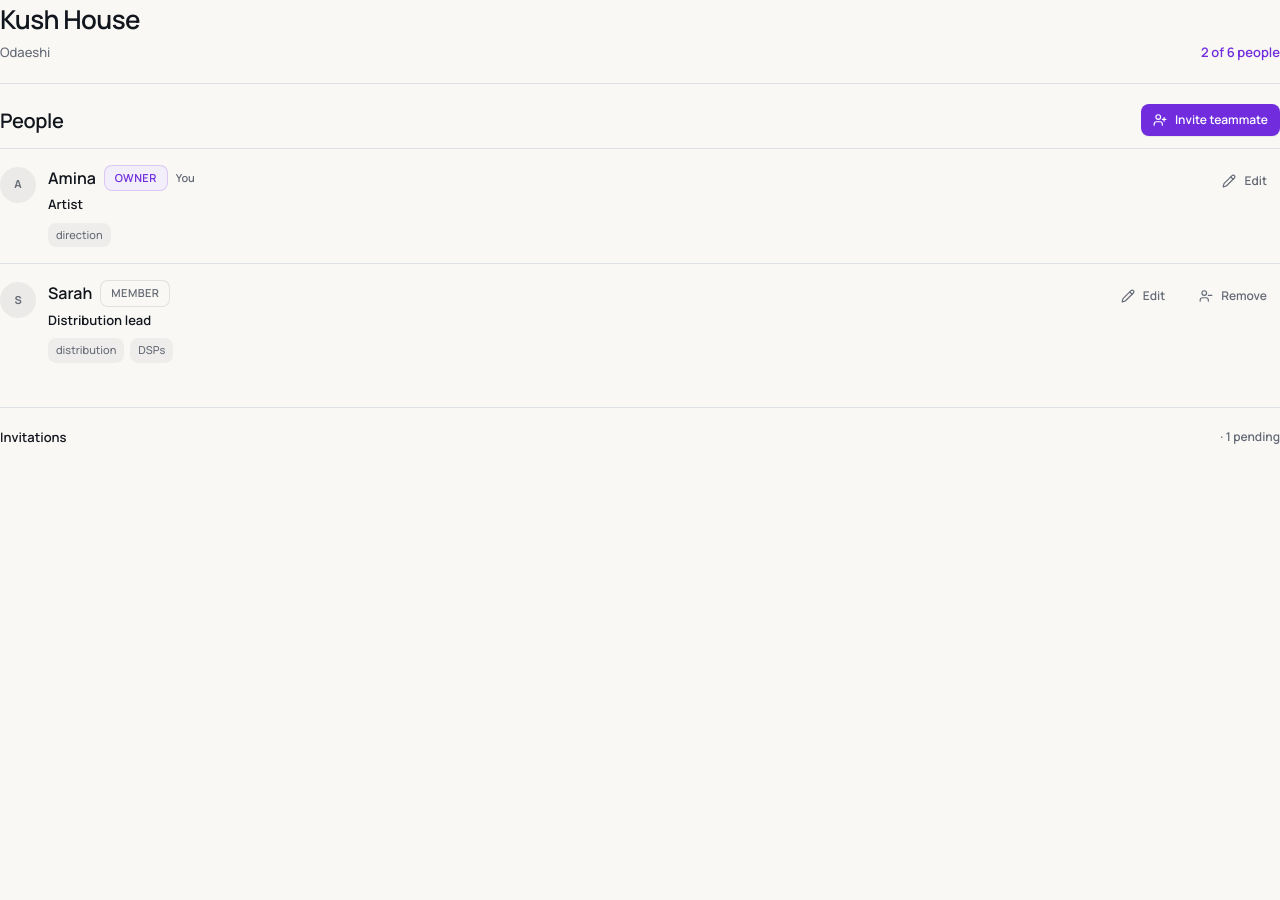
YourTeamPanel › keeps optional role details out of the first invite step
Click the button "Invite teammate" at (1210, 120), box [1141,104,1279,136]
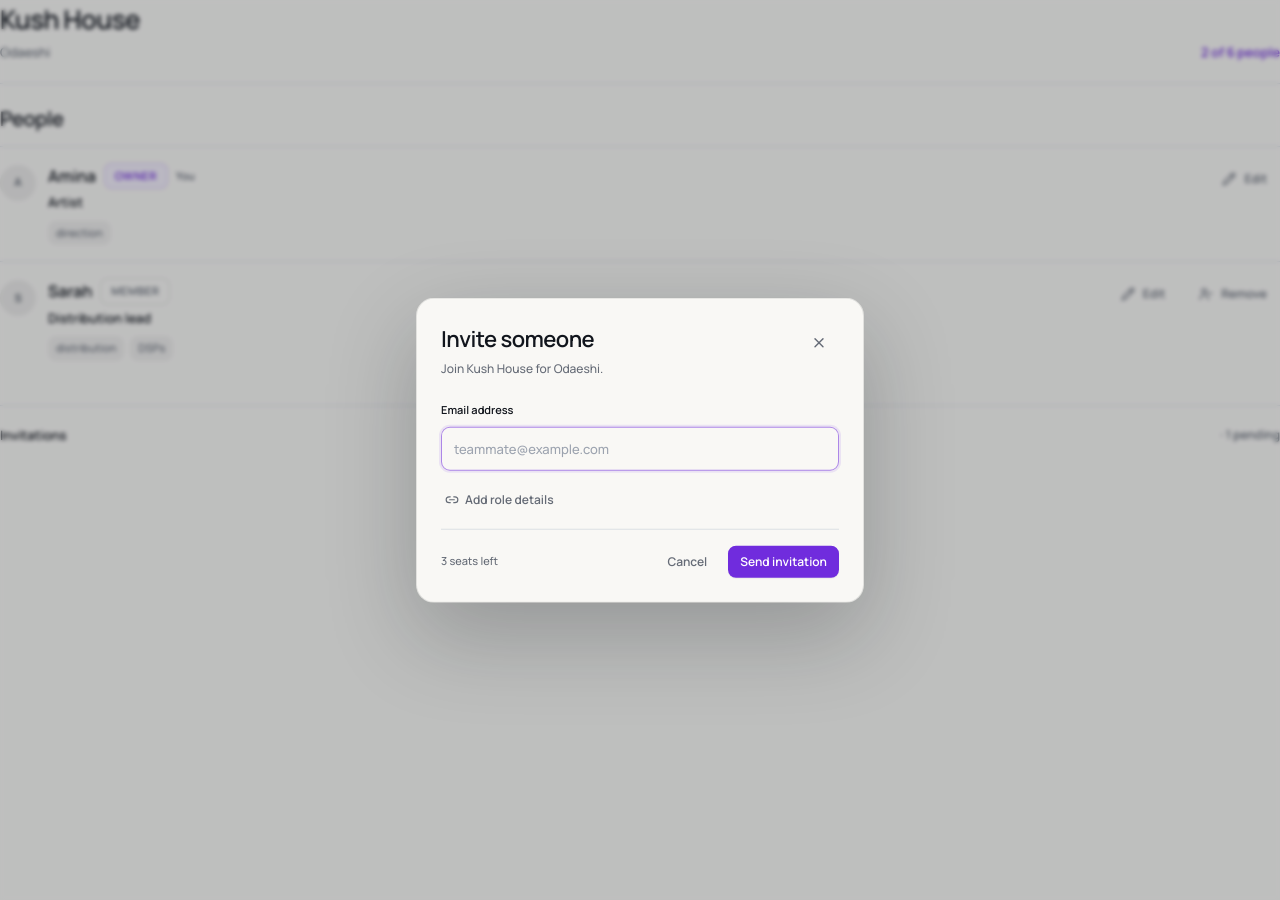
Result: the button "Add role details" is shown at [441,486,558,512]
